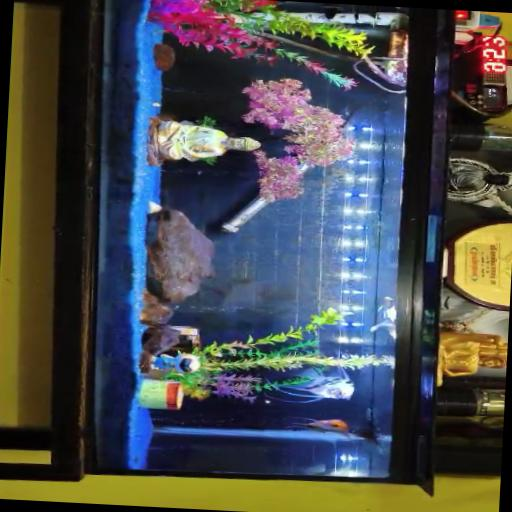Fish: (272, 369, 352, 402), (283, 418, 376, 443), (284, 418, 348, 435), (369, 296, 395, 337), (321, 4, 340, 19)
